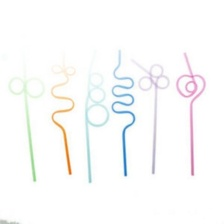drinking_straw: (3, 46, 47, 185), (170, 46, 209, 179), (106, 43, 139, 181)
